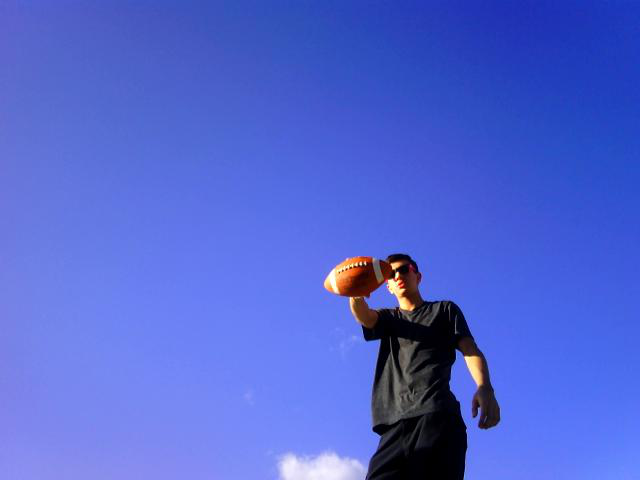football: (319, 252, 396, 300)
